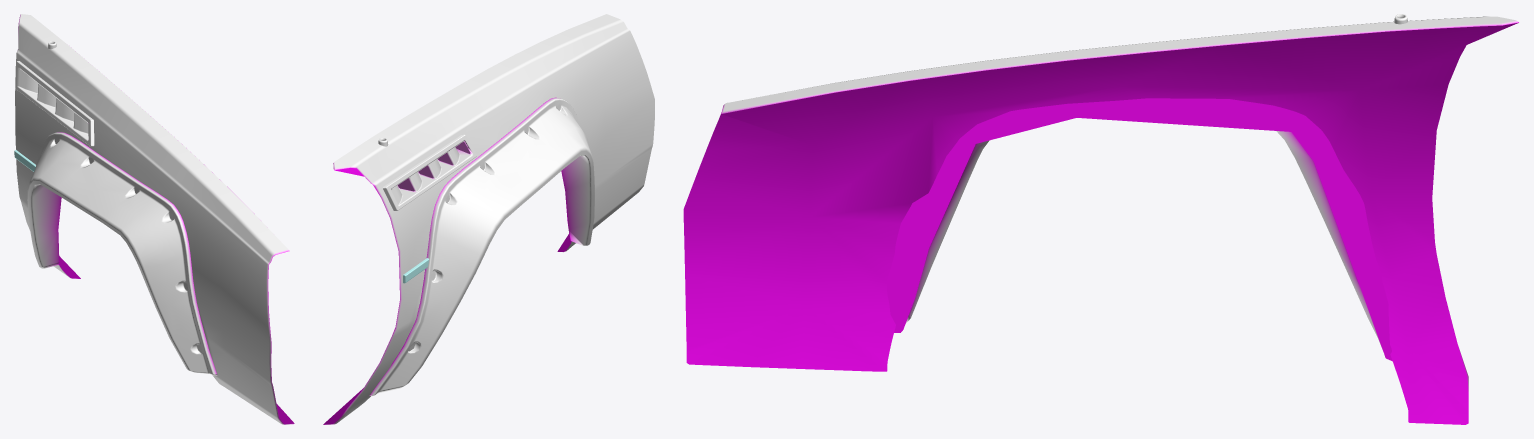
The model's file is Car_Buick_GrandNational_1987_FenderFR_SetC.fbx.
3 views of the same model, side by side, from view 1: azimuth 30°, elevation 25°; view 2: azimuth 150°, elevation 25°; view 3: azimuth 270°, elevation 25° (orthographic). The views are drawn at different scales.
Visible parts, largest first — view 1: FenderFR 6; view 2: FenderFR 6; view 3: FenderFR 6.
Boxes of the visible parts, x1,y1,x2,y2 form: FenderFR 6: [14, 14, 294, 424]; FenderFR 6: [323, 14, 654, 424]; FenderFR 6: [683, 14, 1518, 424].
Bounding box in the file's own units: 0.2837 × 0.7254 × 1.42.
